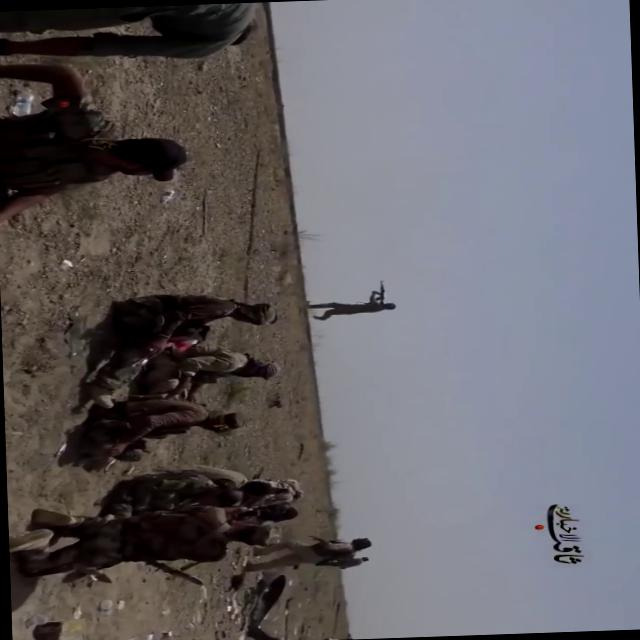long weapon: (360, 277, 399, 302)
